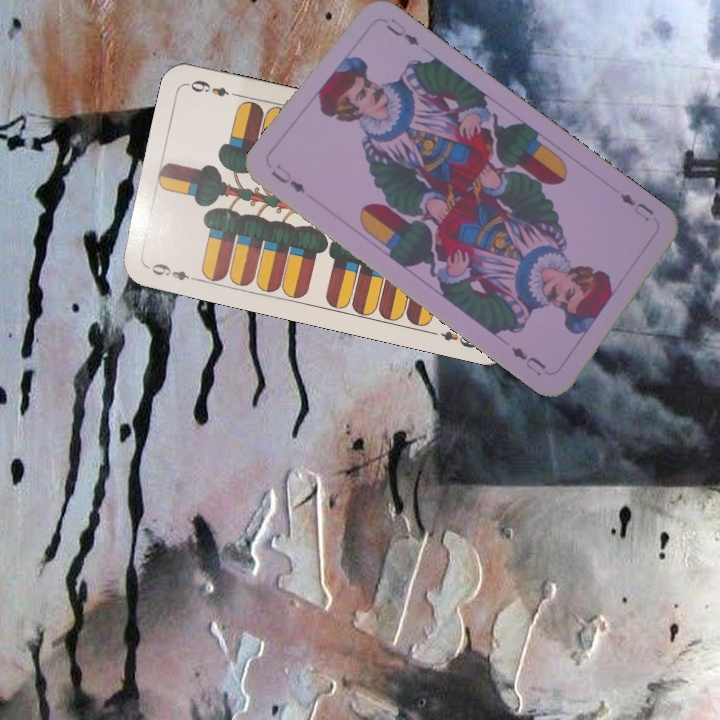E9: (143, 259, 202, 285)
EU: (267, 160, 308, 196), (616, 189, 657, 224)
